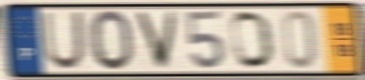0: (280, 8, 321, 71)
5: (183, 9, 228, 72)
O: (87, 8, 137, 73), (229, 9, 277, 72)
U: (40, 10, 87, 72)
V: (132, 9, 182, 72)
